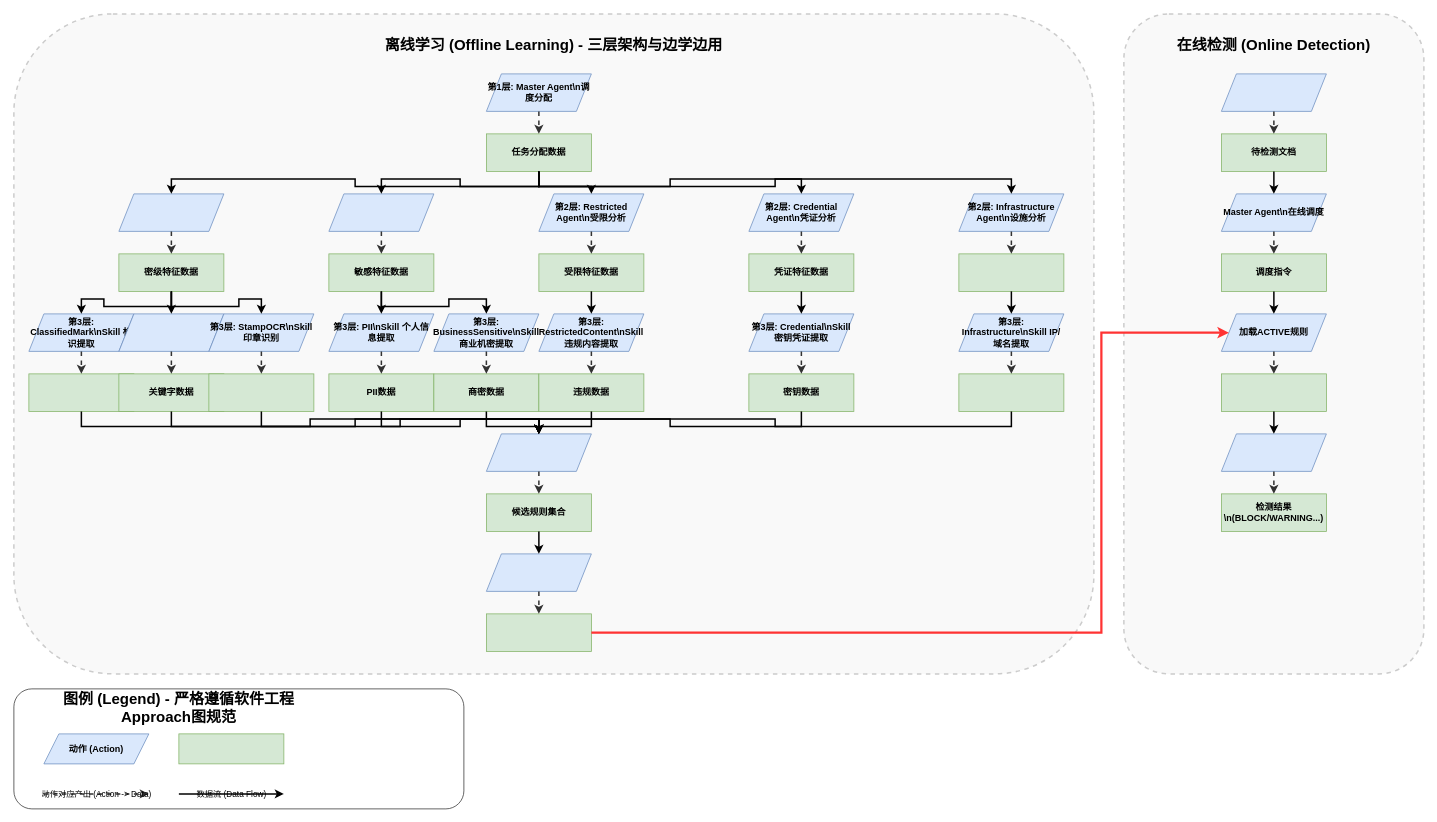
Image size: 1437x822. Some labels were removed from this diagram. Each missing label, with the centre of its shape:
"ACTIVE规则库" belongs at pixel 538 632.
"Evaluation Agent\n评估 (F1≥0.8)" belongs at pixel 538 572.
"Learning Agent\n总结规律与正则" belongs at pixel 538 452.
"印章数据" belongs at pixel 261 392.
"数据产出 (Data Output)" belongs at pixel 231 748.
"标识数据" belongs at pixel 81 392.
"用户上传文件" belongs at pixel 1273 92.
"第2层: Classified Agent\n密级分析" belongs at pixel 171 212.
"第2层: Sensitive Agent\n敏感分析" belongs at pixel 381 212.
"第3层: ClassifiedKeyword\nSkill 关键字提取" belongs at pixel 171 332.
"规则匹配引擎" belongs at pixel 1273 452.
"设施数据" belongs at pixel 1011 392.
"设施特征数据" belongs at pixel 1011 272.
"运行时规则集" belongs at pixel 1273 392.
